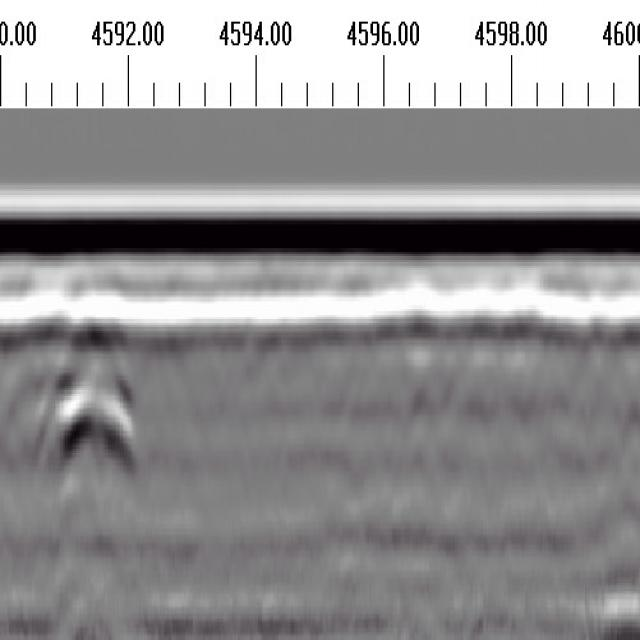loose: (46, 297, 143, 476)
